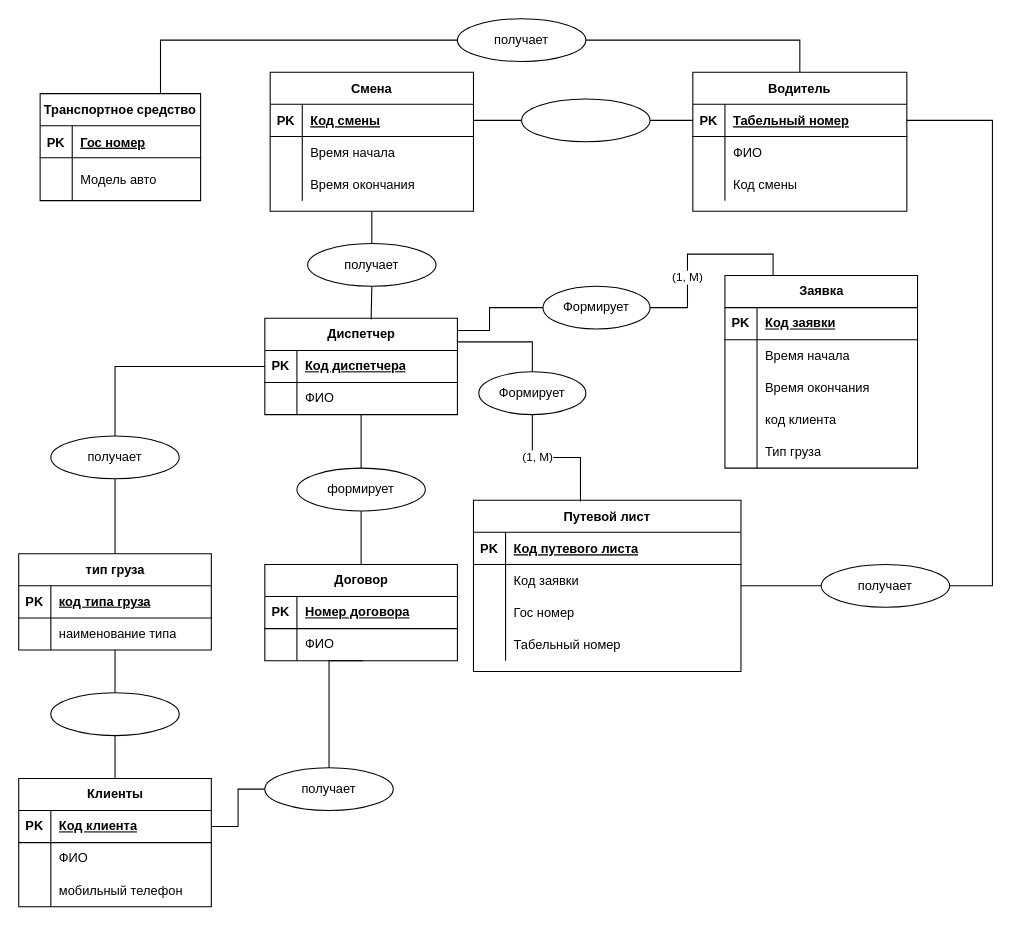
The diagram is 1012 pixels wide and 926 high, and some of its shapes have lost their labels. The centre of each missing label's shape, as x and y in pixels:
выходит: point 585,120
передает: point 114,714
